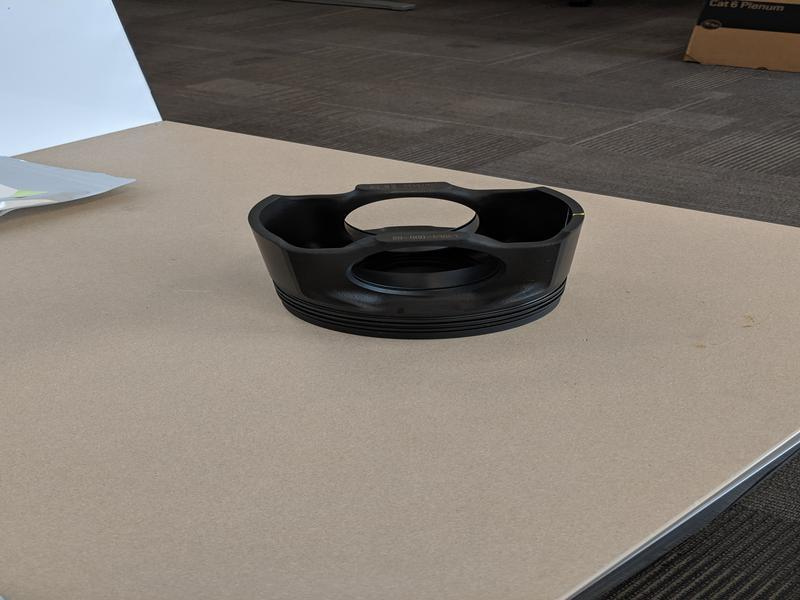piston: (245, 178, 591, 344)
